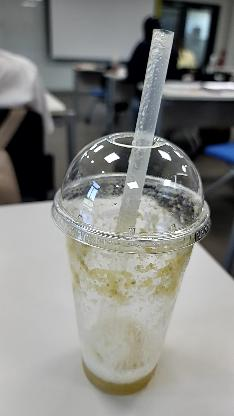Plastic Cup: (44, 122, 206, 406)
